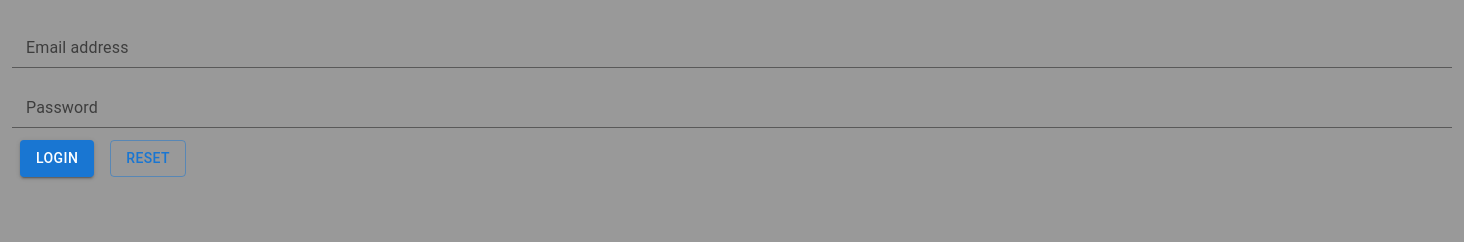
Login › schema validation › should display error when email is invalid
Step 1. Type "invalid-email" into the field labelled "Email address" → (732, 52), box [12, 36, 1452, 68]
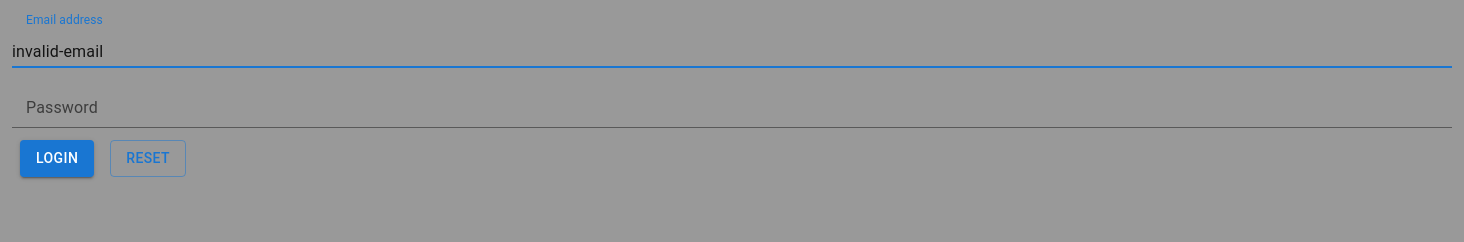
Step 2. Click the button "Login" → (57, 158), box [20, 140, 94, 176]
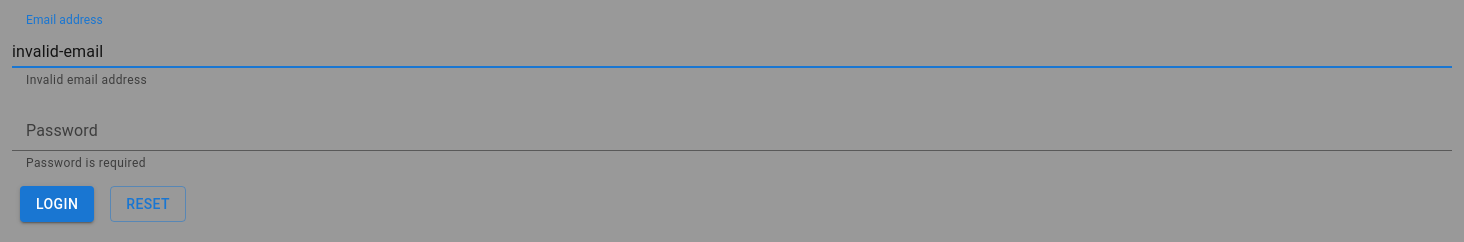
Check: the text "Invalid email address" is shown, box [26, 73, 147, 87]
